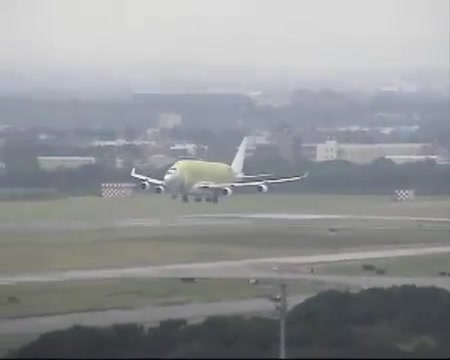aeroplane: (130, 138, 310, 204)
